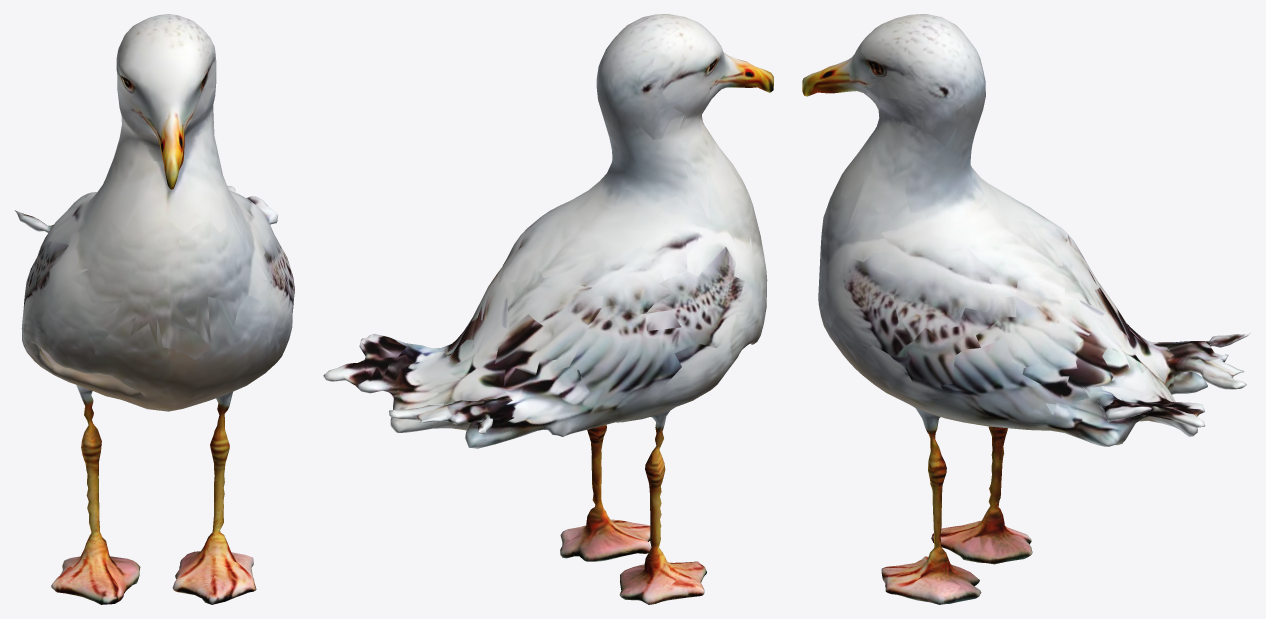
The model's file is gaivota.glb.
The picture shows the model from 3 angles, left to right: view 1: azimuth 30°, elevation 25°; view 2: azimuth 150°, elevation 25°; view 3: azimuth 270°, elevation 25°; orthographic projection. The views are drawn at different scales.
Visible parts, largest first — view 1: Seagull; view 2: Seagull; view 3: Seagull.
Part boxes in pixels (<box>): Seagull: <box>14,14,294,604</box>; Seagull: <box>323,14,773,604</box>; Seagull: <box>802,14,1250,604</box>.
Size of the model in its own units: 0.2078 by 0.35 by 0.2602.
1 material, 1 textured.
